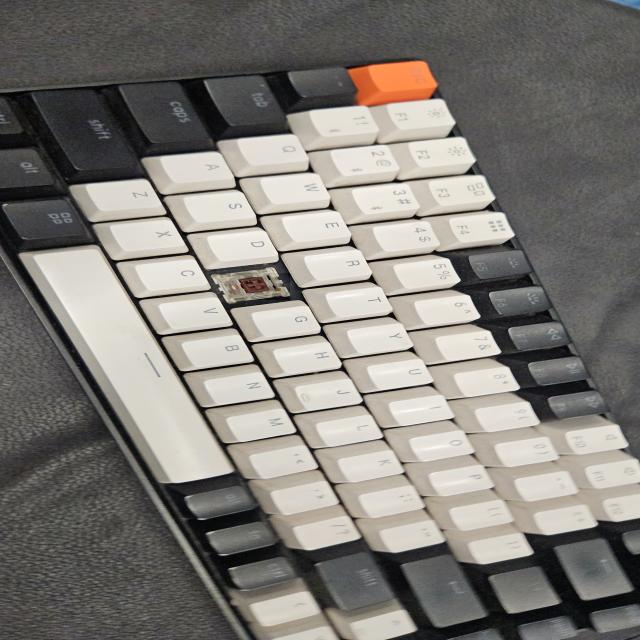C: (229, 273, 290, 300)
